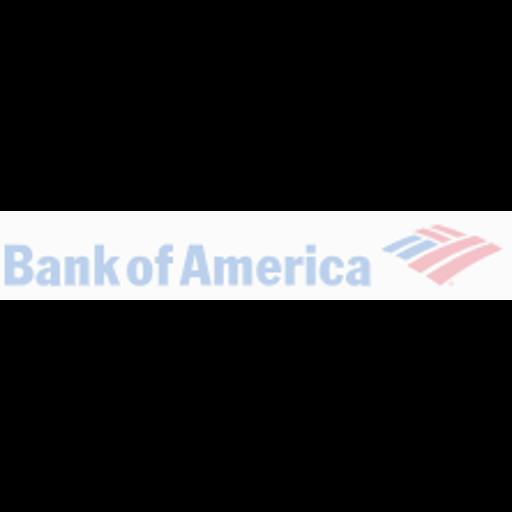Bank of America: (0, 211, 512, 300)
